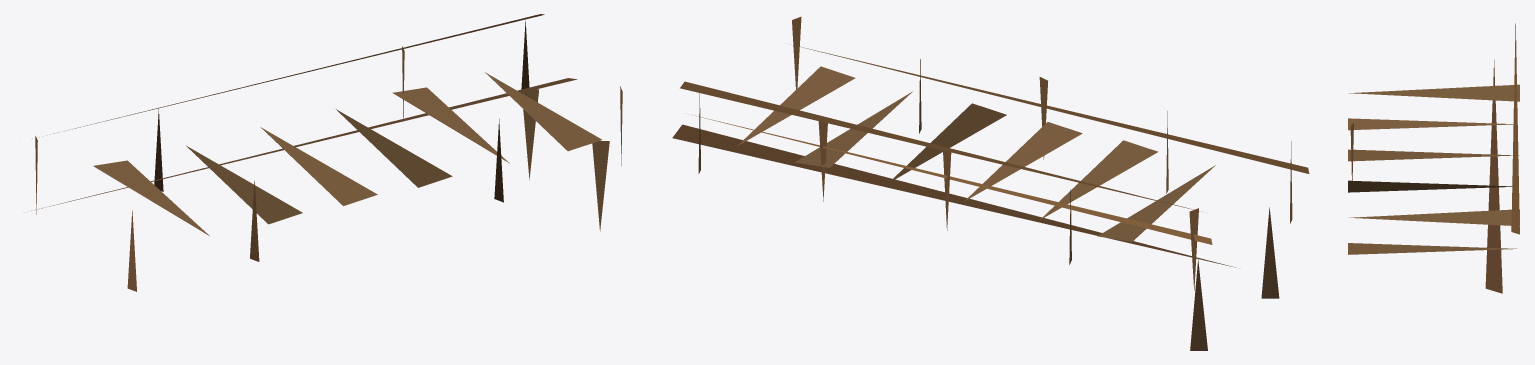
The model's file is bridge_small_wood_lod2.glb.
The picture shows the model from 3 angles, left to right: view 1: azimuth 30°, elevation 25°; view 2: azimuth 150°, elevation 25°; view 3: azimuth 270°, elevation 25°; orthographic projection. The views are drawn at different scales.
Visible parts, largest first — view 1: bridge_small_wood_lod2; view 2: bridge_small_wood_lod2; view 3: bridge_small_wood_lod2.
Boxes of the visible parts, <box> form: bridge_small_wood_lod2: <box>31,14,622,291</box>; bridge_small_wood_lod2: <box>672,16,1309,350</box>; bridge_small_wood_lod2: <box>1348,23,1519,293</box>.
Size of the model in its own units: 6.4 by 1.67 by 2.02.
